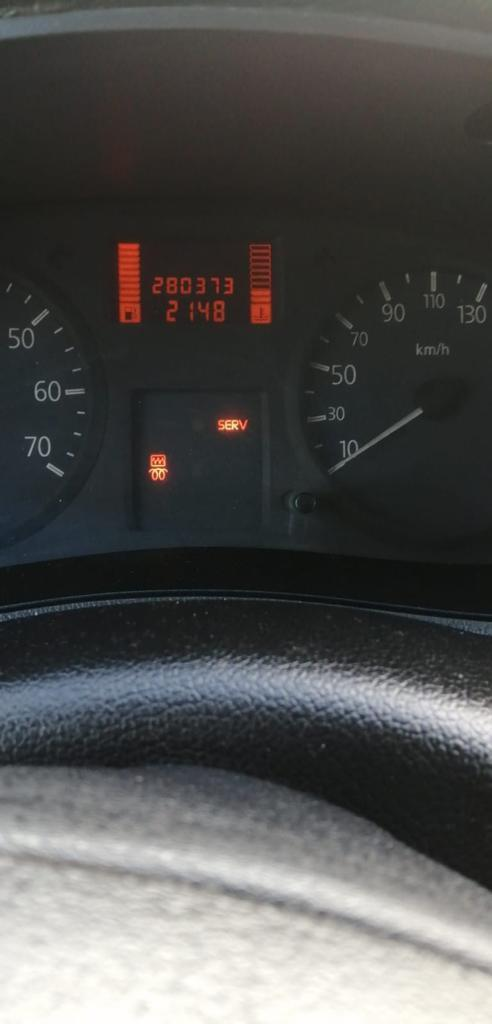0: (180, 276, 192, 295)
1: (188, 300, 194, 321)
2: (165, 300, 179, 322), (152, 275, 164, 294)
3: (195, 276, 206, 293), (223, 276, 232, 295)
4: (197, 300, 210, 320)
7: (209, 275, 220, 294)
8: (213, 299, 225, 322), (166, 275, 178, 294)
odometer: (109, 237, 283, 331)
